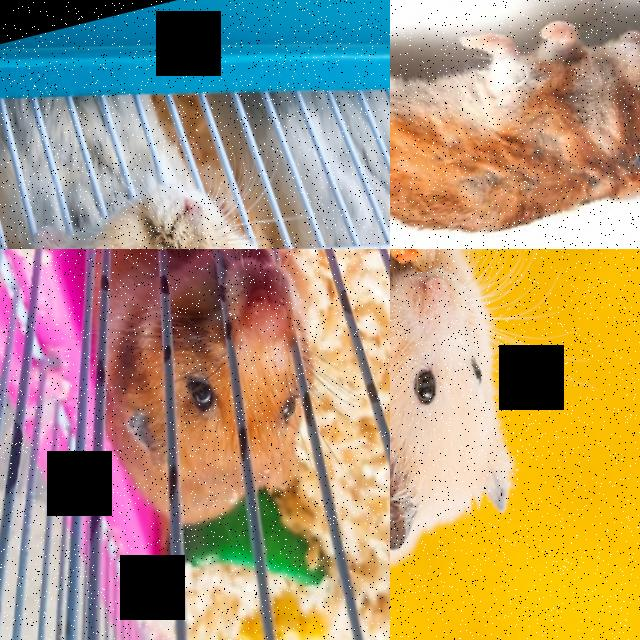hamster: (50, 249, 357, 546), (390, 0, 640, 249), (0, 47, 306, 249), (390, 249, 543, 594), (241, 47, 390, 249)
